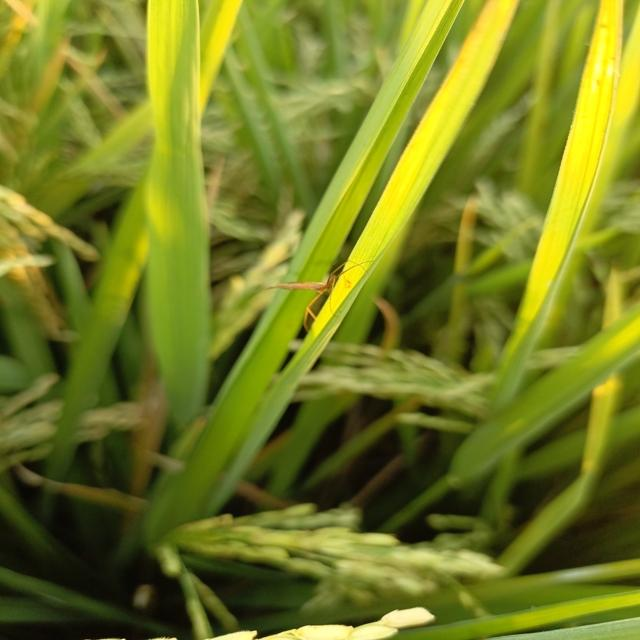green leaf hopper: (240, 252, 380, 348)
